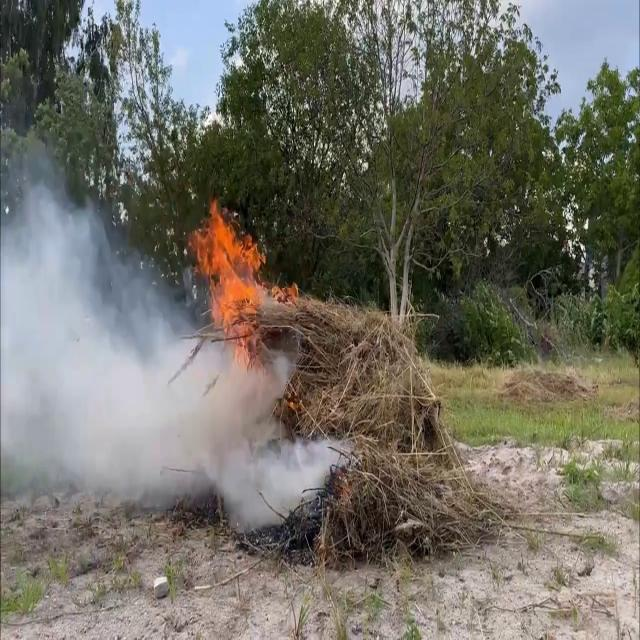Fire: (188, 201, 280, 364)
Smoke: (0, 137, 332, 535)
